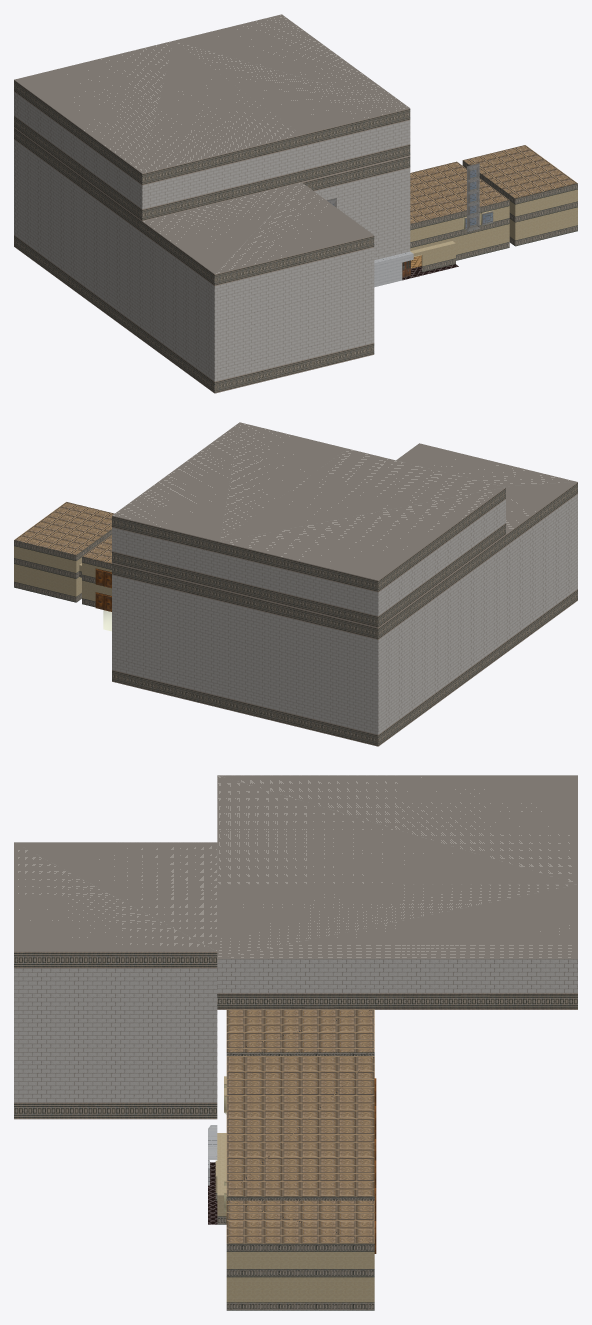
File: pb_lobby.dae
3 renders of one model, top to bottom at view 1: azimuth 30°, elevation 25°; view 2: azimuth 150°, elevation 25°; view 3: azimuth 270°, elevation 25°, orthographic. The views are drawn at different scales.
Visible parts, largest first — view 1: Plane.003, Plane.012, Plane.053, Plane, Plane.048, Plane.052, Plane.061, Plane.063, Plane.024, Plane.014, Plane.013; view 2: Plane.003, Plane.053, Plane.048, Plane.052, Plane.012; view 3: Plane.003, Plane.012, Plane.053, Plane.040, Plane.048, Plane.052, Plane, Plane.013.
Boxes of the visible parts, left/top/right/bottom form: Plane.003: left=14, top=14, right=410, bottom=393; Plane.012: left=410, top=161, right=508, bottom=224; Plane.053: left=463, top=145, right=577, bottom=198; Plane: left=410, top=206, right=509, bottom=266; Plane.048: left=509, top=189, right=577, bottom=240; Plane.052: left=462, top=160, right=577, bottom=246; Plane.061: left=374, top=251, right=413, bottom=287; Plane.063: left=467, top=163, right=479, bottom=231; Plane.024: left=410, top=218, right=509, bottom=247; Plane.014: left=421, top=242, right=509, bottom=272; Plane.013: left=410, top=200, right=509, bottom=230; Plane.003: left=112, top=422, right=577, bottom=746; Plane.053: left=14, top=502, right=114, bottom=555; Plane.048: left=14, top=546, right=81, bottom=596; Plane.052: left=14, top=529, right=111, bottom=602; Plane.012: left=82, top=535, right=111, bottom=563; Plane.003: left=14, top=775, right=577, bottom=1119; Plane.012: left=226, top=1056, right=374, bottom=1196; Plane.053: left=226, top=1200, right=374, bottom=1243; Plane.040: left=226, top=1009, right=374, bottom=1052; Plane.048: left=226, top=1252, right=374, bottom=1302; Plane.052: left=226, top=1243, right=374, bottom=1310; Plane: left=215, top=1076, right=226, bottom=1216; Plane.013: left=226, top=1196, right=374, bottom=1200.
Size of the model in its own units: 77 by 61 by 33.7.
17 materials, 16 textured.
